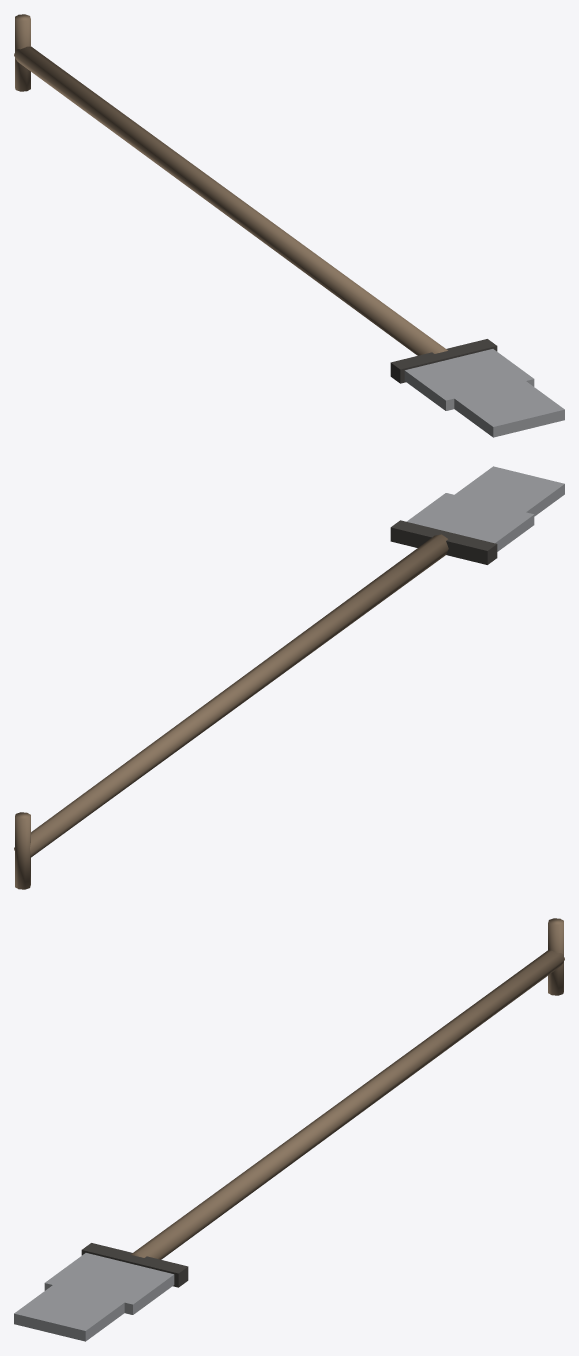
File: Shovel.fbx
3 renders of one model, top to bottom at view 1: azimuth 30°, elevation 25°; view 2: azimuth 150°, elevation 25°; view 3: azimuth 330°, elevation 25°, orthographic.
Parts seen in each view (by area): view 1: Shovel; view 2: Shovel; view 3: Shovel.
Boxes of the visible parts, x1=… form: Shovel: x1=14, y1=14, x2=564, y2=437; Shovel: x1=14, y1=466, x2=564, y2=889; Shovel: x1=14, y1=918, x2=564, y2=1341.
Bounding box in the file's own units: 11.5 × 8 × 105.
